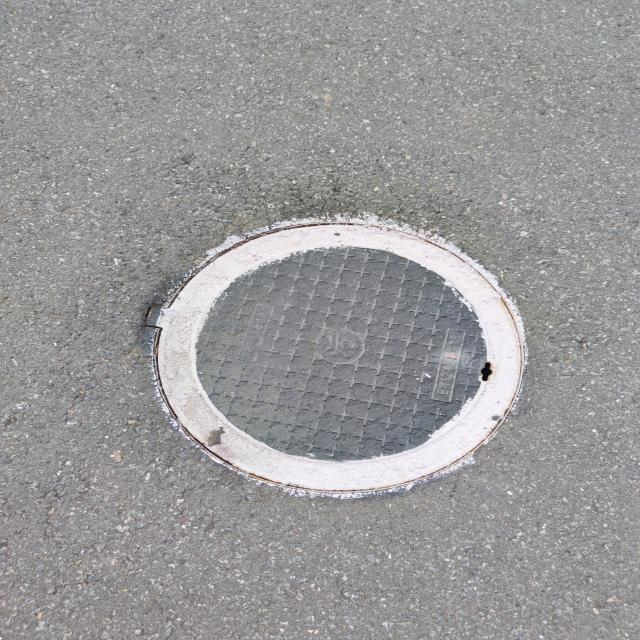Good: (145, 215, 533, 501)
